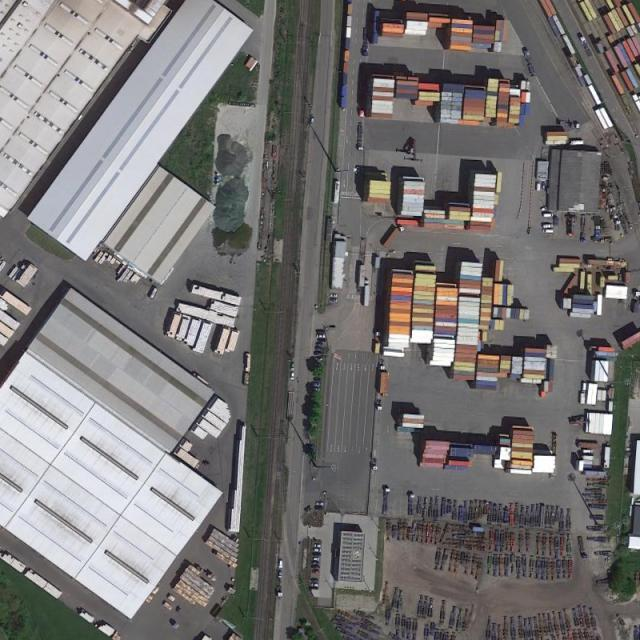vehicle: (311, 382, 322, 387), (314, 351, 325, 356), (543, 213, 554, 218), (290, 372, 295, 382), (311, 561, 321, 566), (314, 357, 324, 362), (542, 224, 554, 228), (542, 230, 554, 234), (310, 578, 319, 583), (279, 561, 284, 570), (541, 206, 548, 212), (290, 363, 295, 371), (311, 388, 321, 392), (312, 557, 322, 561), (316, 334, 326, 338), (310, 582, 319, 586), (316, 502, 325, 506), (314, 506, 323, 510), (312, 570, 321, 574), (310, 115, 314, 124), (310, 566, 321, 569), (314, 544, 322, 548), (314, 549, 322, 553), (330, 298, 338, 302), (330, 294, 338, 298), (542, 182, 546, 190), (278, 571, 282, 579), (312, 553, 322, 556)
